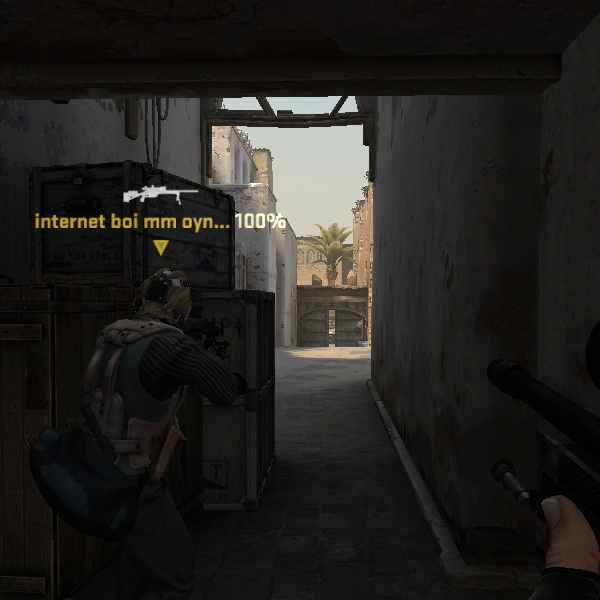t_body: (38, 267, 299, 569)
t_head: (130, 263, 206, 330)
